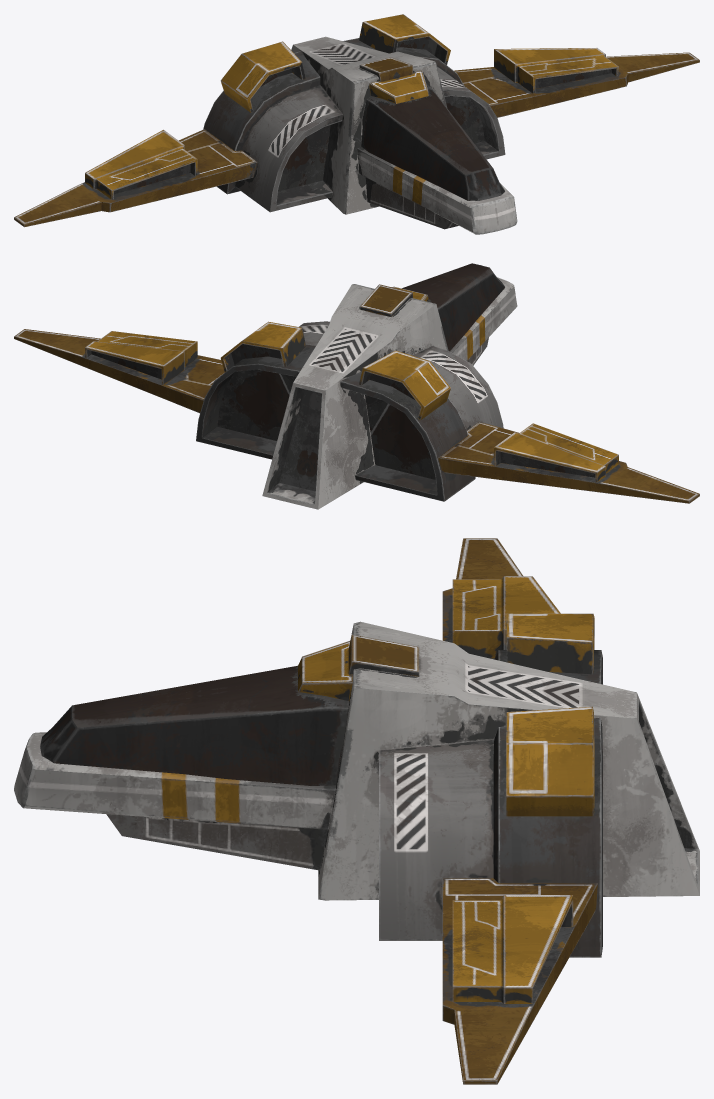
File: Bob-v1.glb
3 renders of one model, top to bottom at view 1: azimuth 30°, elevation 25°; view 2: azimuth 150°, elevation 25°; view 3: azimuth 270°, elevation 25°, orthographic. The views are drawn at different scales.
Visible parts, largest first — view 1: Bob; view 2: Bob; view 3: Bob.
Part boxes in pixels (<box>): Bob: <box>14,14,699,234</box>; Bob: <box>14,263,699,509</box>; Bob: <box>14,538,699,1084</box>.
Size of the model in its own units: 10.5 by 2.04 by 5.61.
1 material, 1 textured.
